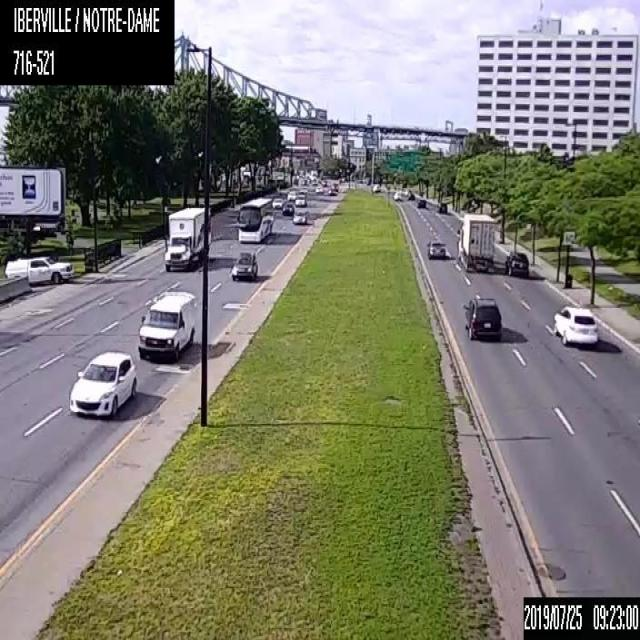bus: (235, 197, 272, 242)
vehicle: (68, 349, 137, 416), (138, 288, 196, 361), (163, 204, 210, 272), (454, 210, 494, 270), (551, 304, 598, 348), (4, 254, 72, 283), (463, 295, 502, 340), (232, 248, 258, 280), (504, 251, 528, 276), (426, 238, 444, 258), (292, 208, 306, 224), (282, 201, 294, 215), (415, 194, 426, 208), (294, 193, 306, 205), (272, 197, 283, 208), (286, 189, 297, 200), (436, 200, 446, 212), (372, 181, 381, 192), (406, 188, 414, 199), (298, 189, 307, 198), (327, 185, 335, 194), (392, 191, 400, 200), (315, 185, 322, 192)
